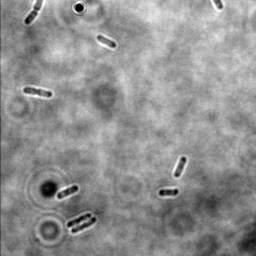Dividing: (70, 215, 97, 235), (24, 1, 44, 27), (22, 85, 53, 99), (66, 212, 92, 228), (96, 34, 117, 49)
Rod: (55, 183, 79, 200), (172, 155, 189, 179), (156, 187, 180, 198)
